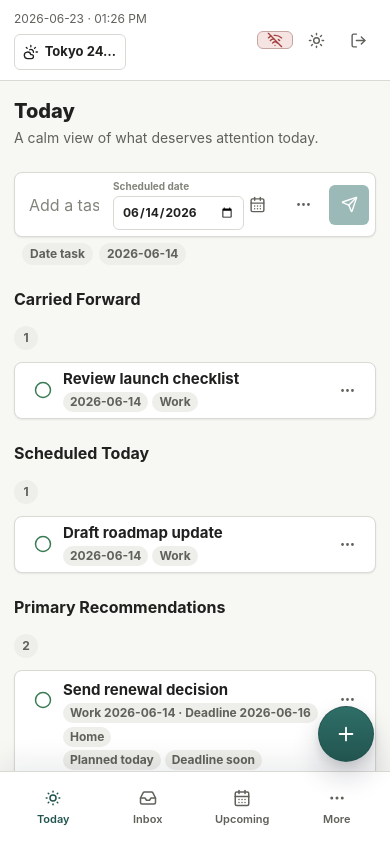
Test case: phase 04 pages and action surfaces › keeps a floating Quick Add button on mobile
The image size is (390, 844).
Expected: the heading "Today" is shown, [14,99,75,123]
Click the button named "Quick Add".
click(346, 734)  # box [318,706,374,762]
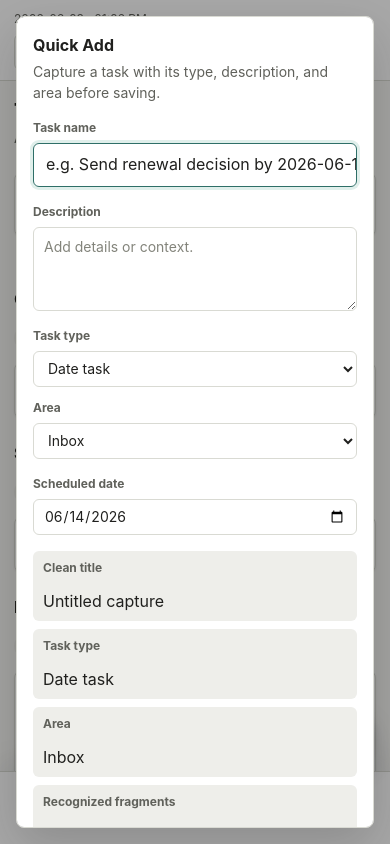
Now the dialog "Quick Add" is shown
